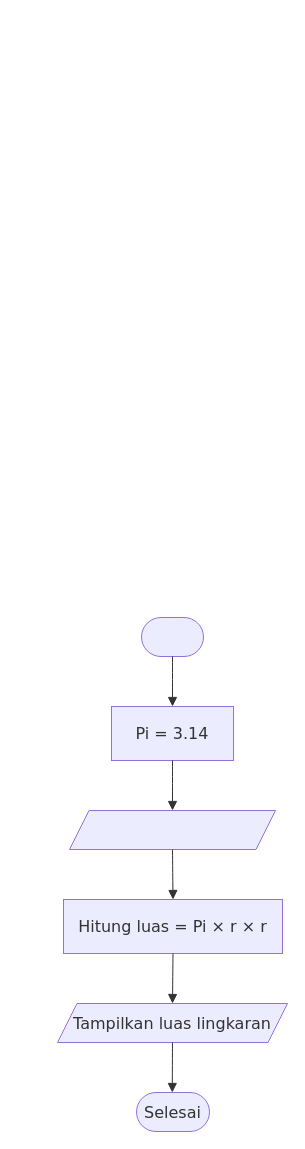
Some shapes in this 305 by 1149 pixel diagram are drawn without their labels. The centre of each missing label's shape, as x and y in pixels:
Masukkan jari-jari (r): [172,830]
Mulai: [172,636]
